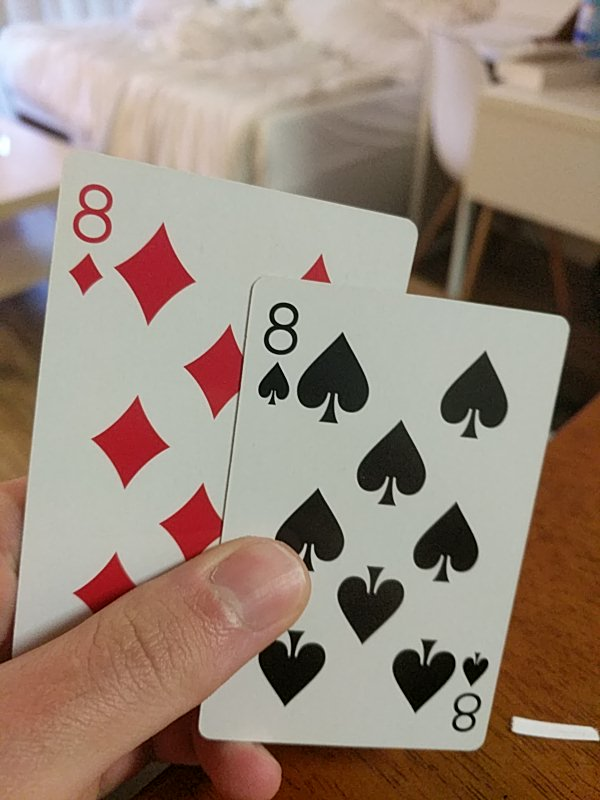Diamonds: (12, 146, 418, 648)
Spades: (204, 275, 567, 748)
